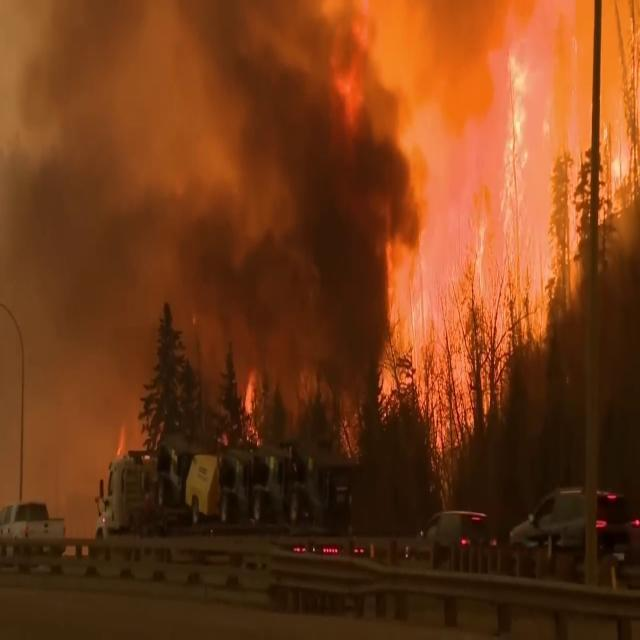Fire: (409, 0, 596, 391)
Smoke: (0, 0, 448, 455)
